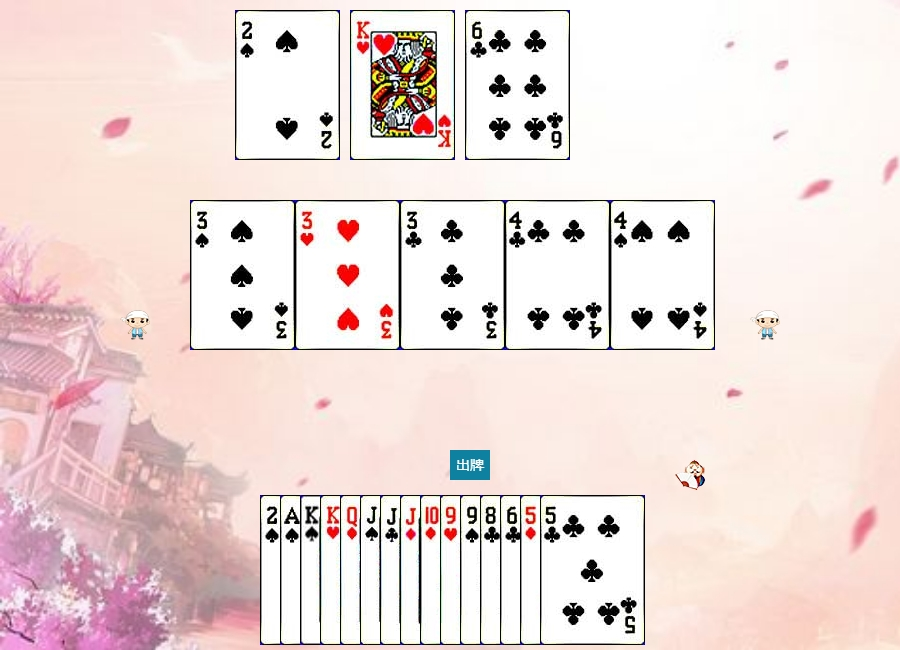10~1: (420, 495, 525, 645)
11~1: (400, 495, 505, 645)
11~2: (380, 495, 485, 645)
11~4: (360, 495, 465, 645)
12~1: (340, 495, 445, 645)
13~3: (350, 10, 455, 160), (320, 495, 425, 645)
13~4: (300, 495, 405, 645)
14~4: (280, 495, 385, 645)
15~4: (235, 10, 340, 160), (260, 495, 365, 645)
3~2: (400, 200, 505, 350)
3~3: (295, 200, 400, 350)
3~4: (190, 200, 295, 350)
4~2: (505, 200, 610, 350)
4~4: (610, 200, 715, 350)
5~1: (520, 495, 625, 645)
5~2: (540, 495, 645, 645)
6~2: (465, 10, 570, 160), (500, 495, 605, 645)
8~2: (480, 495, 585, 645)
9~3: (440, 495, 545, 645)
9~4: (460, 495, 565, 645)
